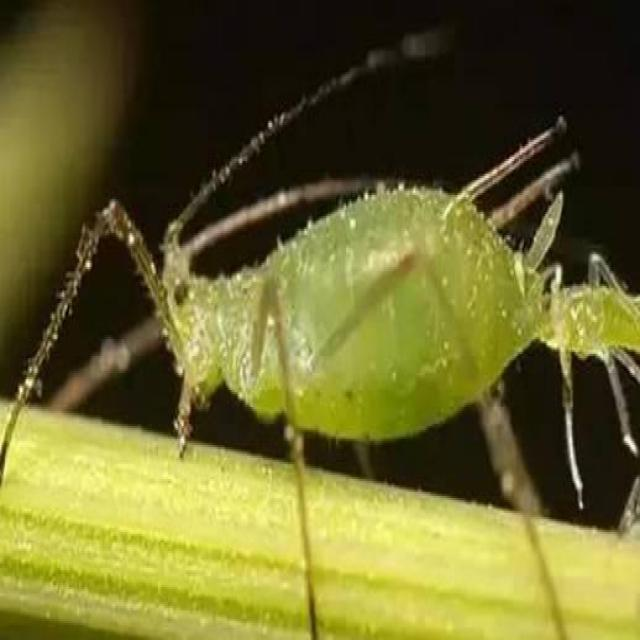aphid: (32, 38, 566, 640)
